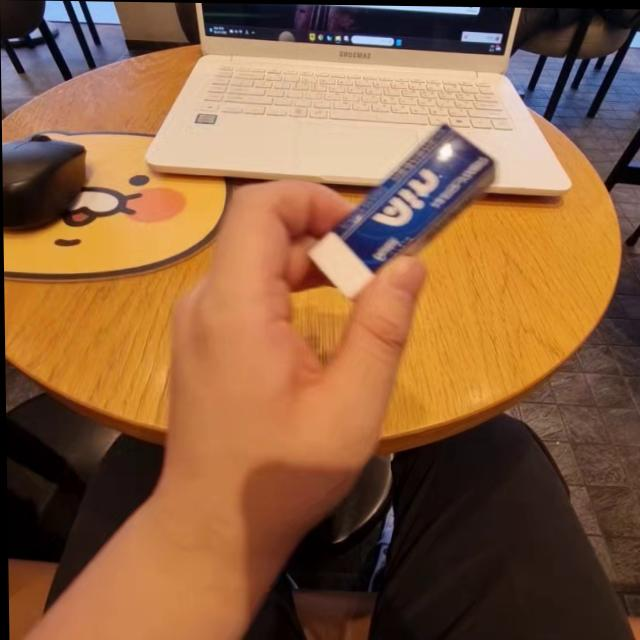grab_eraser: (152, 106, 510, 593)
mouse: (2, 129, 93, 244)
